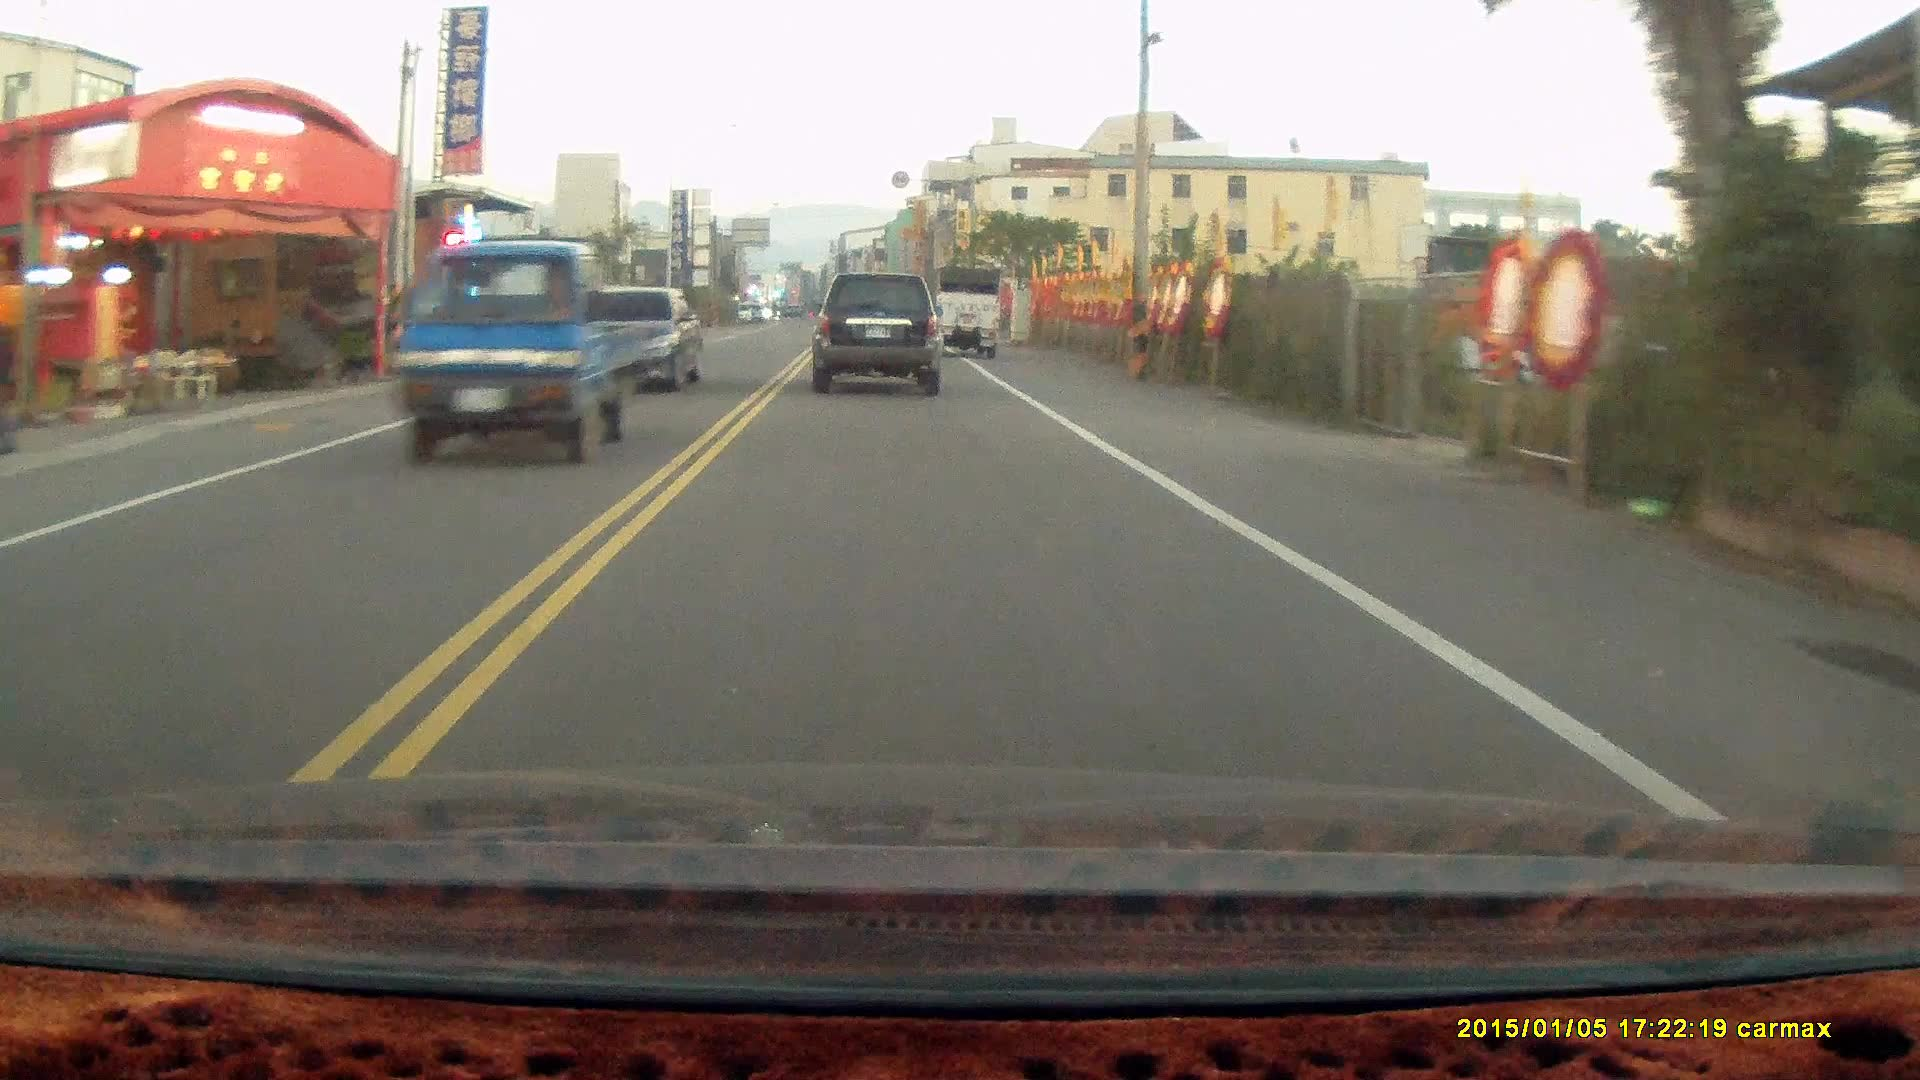vehicle: (393, 240, 651, 455), (811, 266, 947, 396), (563, 284, 705, 396), (934, 262, 1005, 359)
